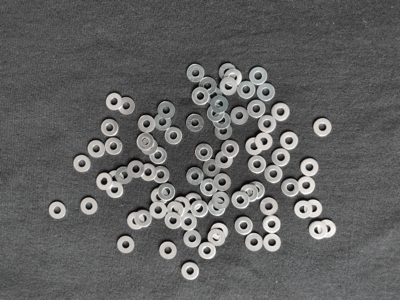circle: (313, 116, 333, 137), (47, 201, 67, 221), (185, 63, 205, 83), (247, 100, 267, 120), (318, 218, 337, 239), (117, 235, 136, 255), (198, 241, 217, 261), (234, 216, 253, 236), (263, 215, 283, 234), (260, 196, 279, 216), (87, 139, 106, 159), (101, 118, 121, 137), (195, 142, 215, 161), (186, 113, 205, 133), (218, 63, 238, 82), (237, 80, 256, 100), (272, 102, 291, 122), (247, 156, 267, 175), (272, 147, 291, 167), (119, 96, 137, 117), (257, 82, 275, 103), (181, 262, 200, 281), (183, 230, 202, 249), (263, 234, 282, 253), (203, 158, 222, 177), (258, 114, 277, 133), (280, 131, 299, 150), (265, 165, 284, 184), (298, 176, 317, 195), (207, 229, 227, 247), (138, 114, 156, 134), (246, 137, 264, 157), (128, 211, 145, 232), (135, 209, 153, 228), (106, 92, 124, 111), (106, 181, 124, 200), (107, 170, 125, 189), (152, 166, 171, 184), (158, 183, 176, 202), (164, 211, 182, 230), (209, 198, 227, 217), (187, 167, 205, 186), (213, 173, 232, 191), (222, 139, 240, 158), (154, 113, 173, 131), (165, 127, 184, 145), (192, 87, 210, 106), (204, 88, 223, 106), (215, 123, 234, 141), (224, 69, 243, 87), (250, 68, 269, 86), (255, 132, 273, 151), (281, 179, 299, 198), (301, 159, 320, 177), (310, 221, 328, 240), (201, 178, 218, 198), (248, 181, 265, 201), (211, 222, 229, 240), (73, 156, 91, 174), (115, 167, 133, 185), (212, 192, 230, 210), (216, 151, 234, 169), (150, 147, 168, 165), (157, 101, 175, 119), (220, 78, 238, 96), (231, 106, 249, 124), (232, 192, 250, 210), (294, 202, 312, 220), (305, 200, 323, 218), (79, 198, 98, 215), (160, 241, 177, 260), (106, 138, 125, 155), (127, 161, 146, 178), (149, 202, 168, 219), (136, 133, 155, 150), (246, 233, 264, 250), (151, 188, 169, 205), (180, 213, 197, 231), (192, 200, 209, 218), (185, 193, 203, 210), (200, 77, 217, 95), (211, 96, 229, 113), (213, 113, 231, 130), (242, 184, 258, 203), (141, 138, 157, 156), (207, 106, 225, 122), (141, 163, 156, 182), (168, 201, 184, 218), (97, 172, 112, 190), (175, 197, 190, 215)
